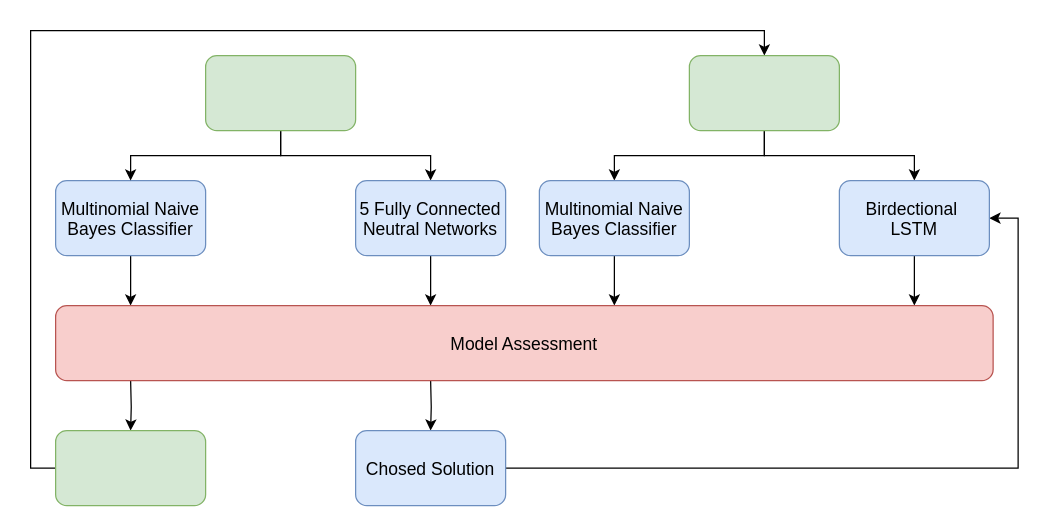
This 1050x528 diagram has some shape labels left out. Each missing label, with the centre of its shape:
"Dataset from Kaggle" belongs at pixel 280 92.
"Generated Synthetic Data" belongs at pixel 763 92.
"Generating Synthetic Data" belongs at pixel 130 467.
